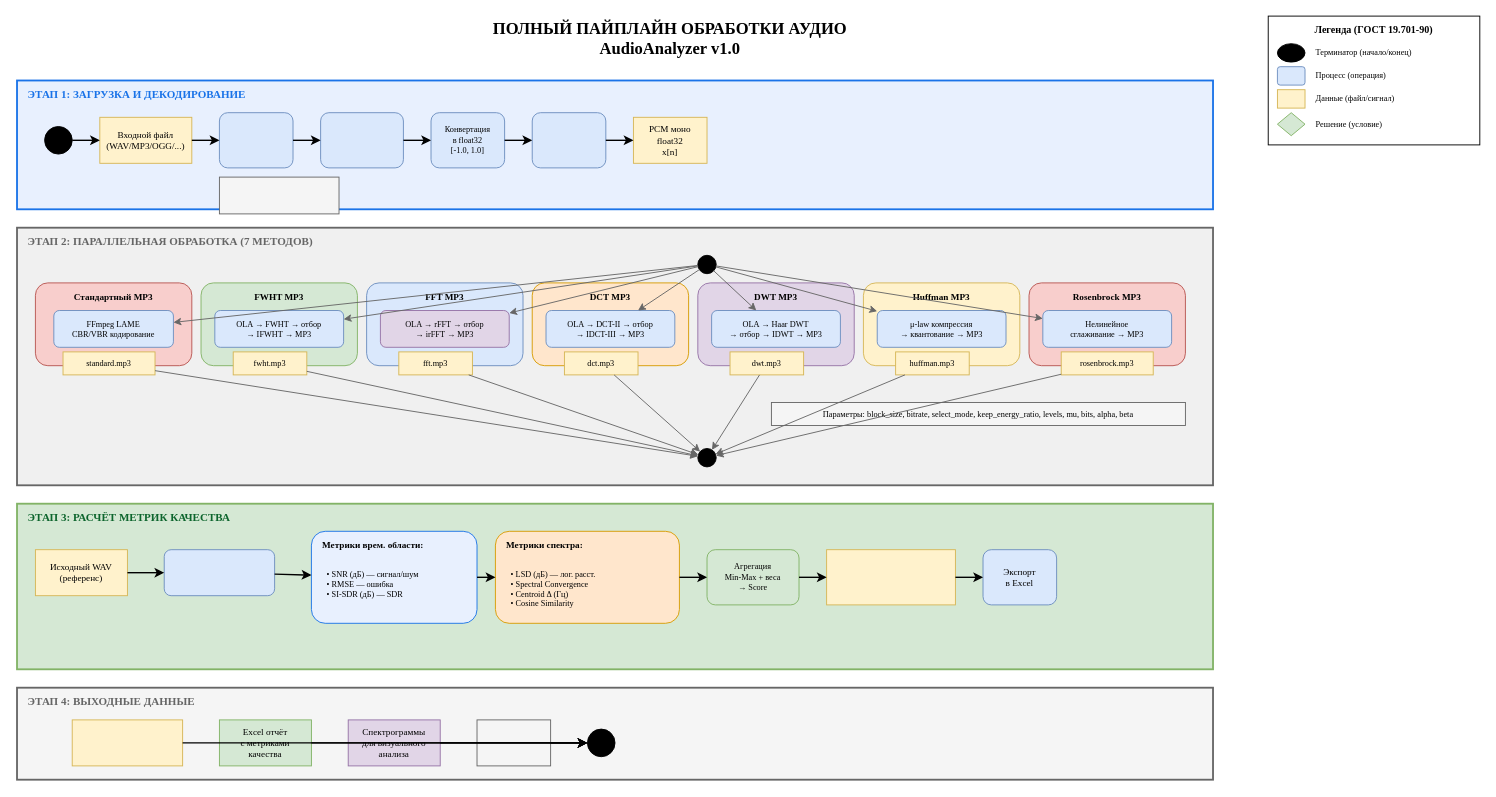
Some shapes in this 1496 by 797 pixel diagram are drawn without their labels. Each missing label, with the centre of its shape:
"7 MP3 файлов с результатами преобразований" belongs at (x=127, y=742).
"Декодирование FFmpeg → PCM s16le" belongs at (x=361, y=140).
"Декодирование MP3 результатов" belongs at (x=219, y=572).
"Логи обработки" belongs at (x=513, y=742).
"Метаданные: sample_rate, channels, bit_depth, duration" belongs at (x=278, y=195).
"Пробинг метаданных (ffprobe)" belongs at (x=255, y=140).
"Смешивание в моно (усреднение)" belongs at (x=568, y=140).
"Таблица результатов (метрики + score + время)" belongs at (x=890, y=577).
